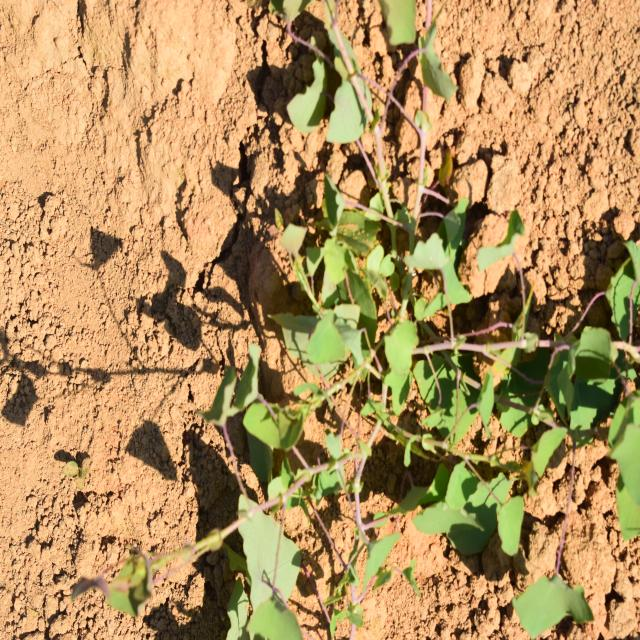Asiatic_Smartweed: (356, 202, 480, 401), (278, 13, 412, 178), (416, 421, 531, 575), (225, 484, 305, 635)
